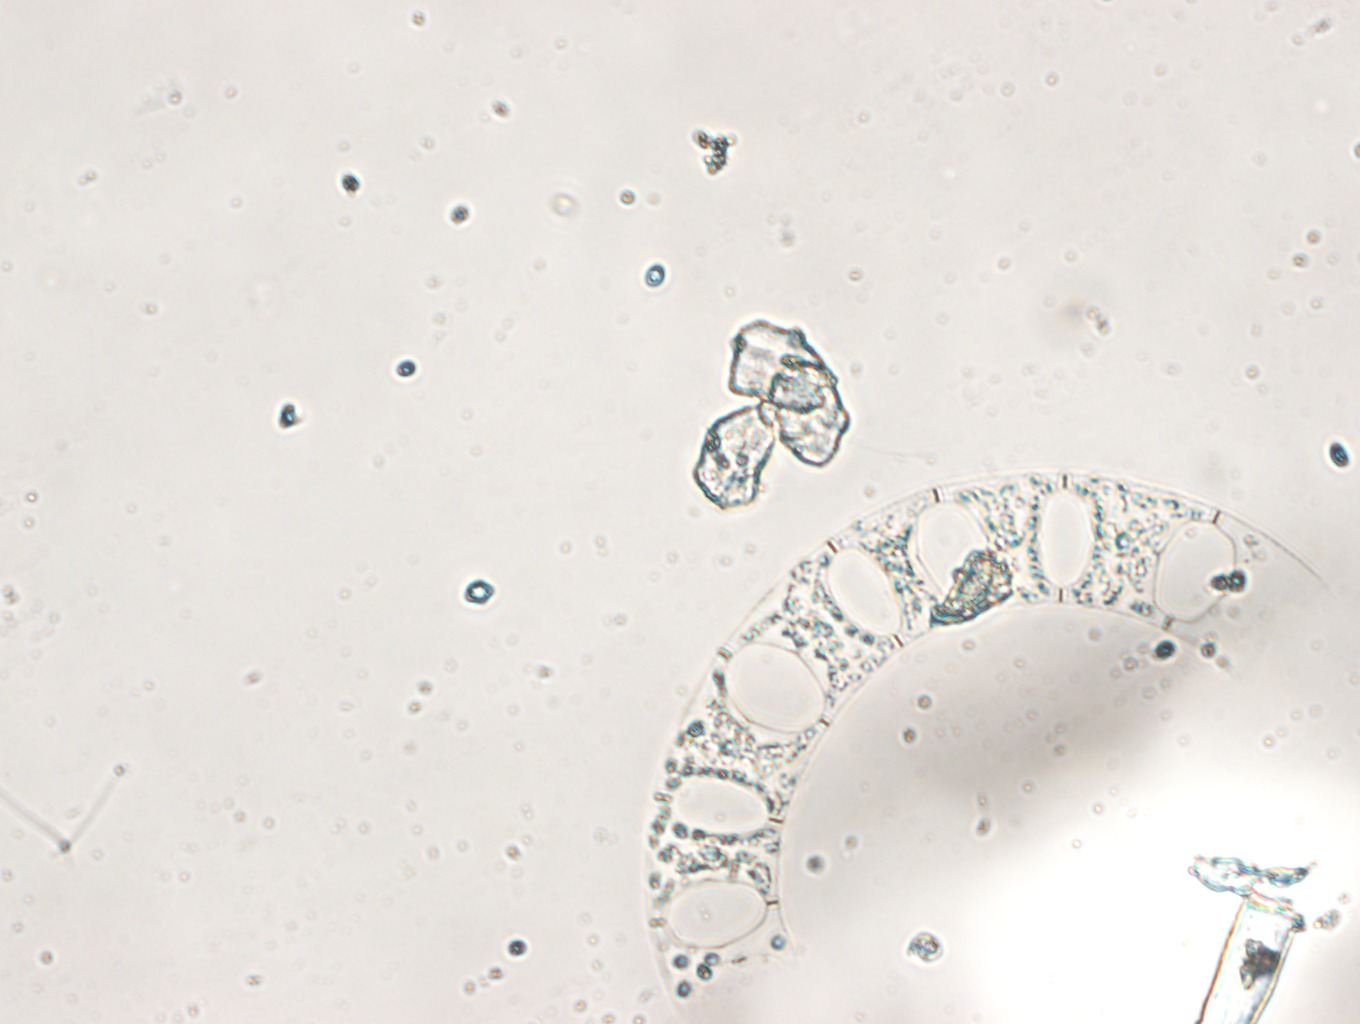eucampia: (652, 478, 1298, 996)
